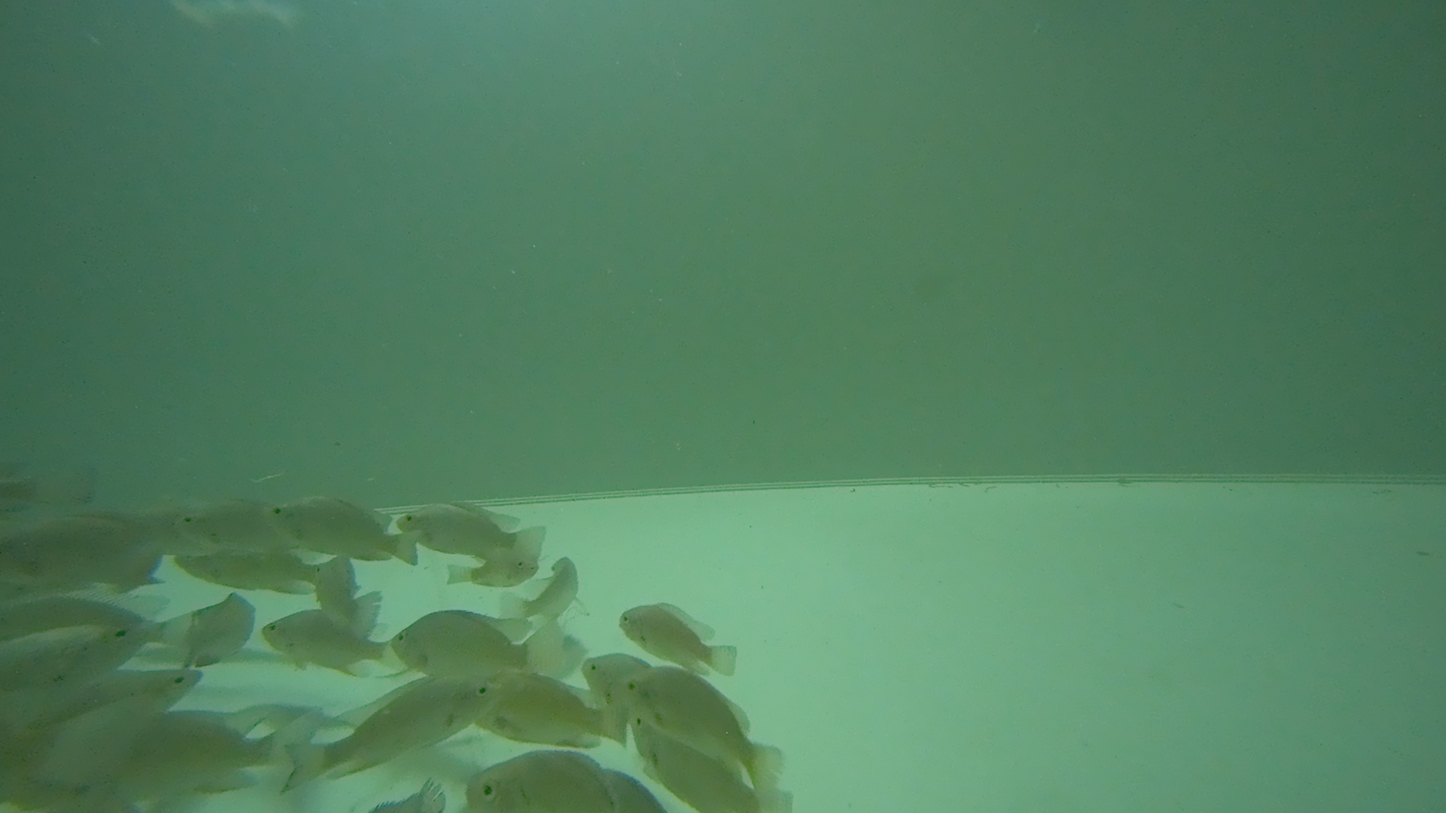fish: (396, 500, 545, 562)
